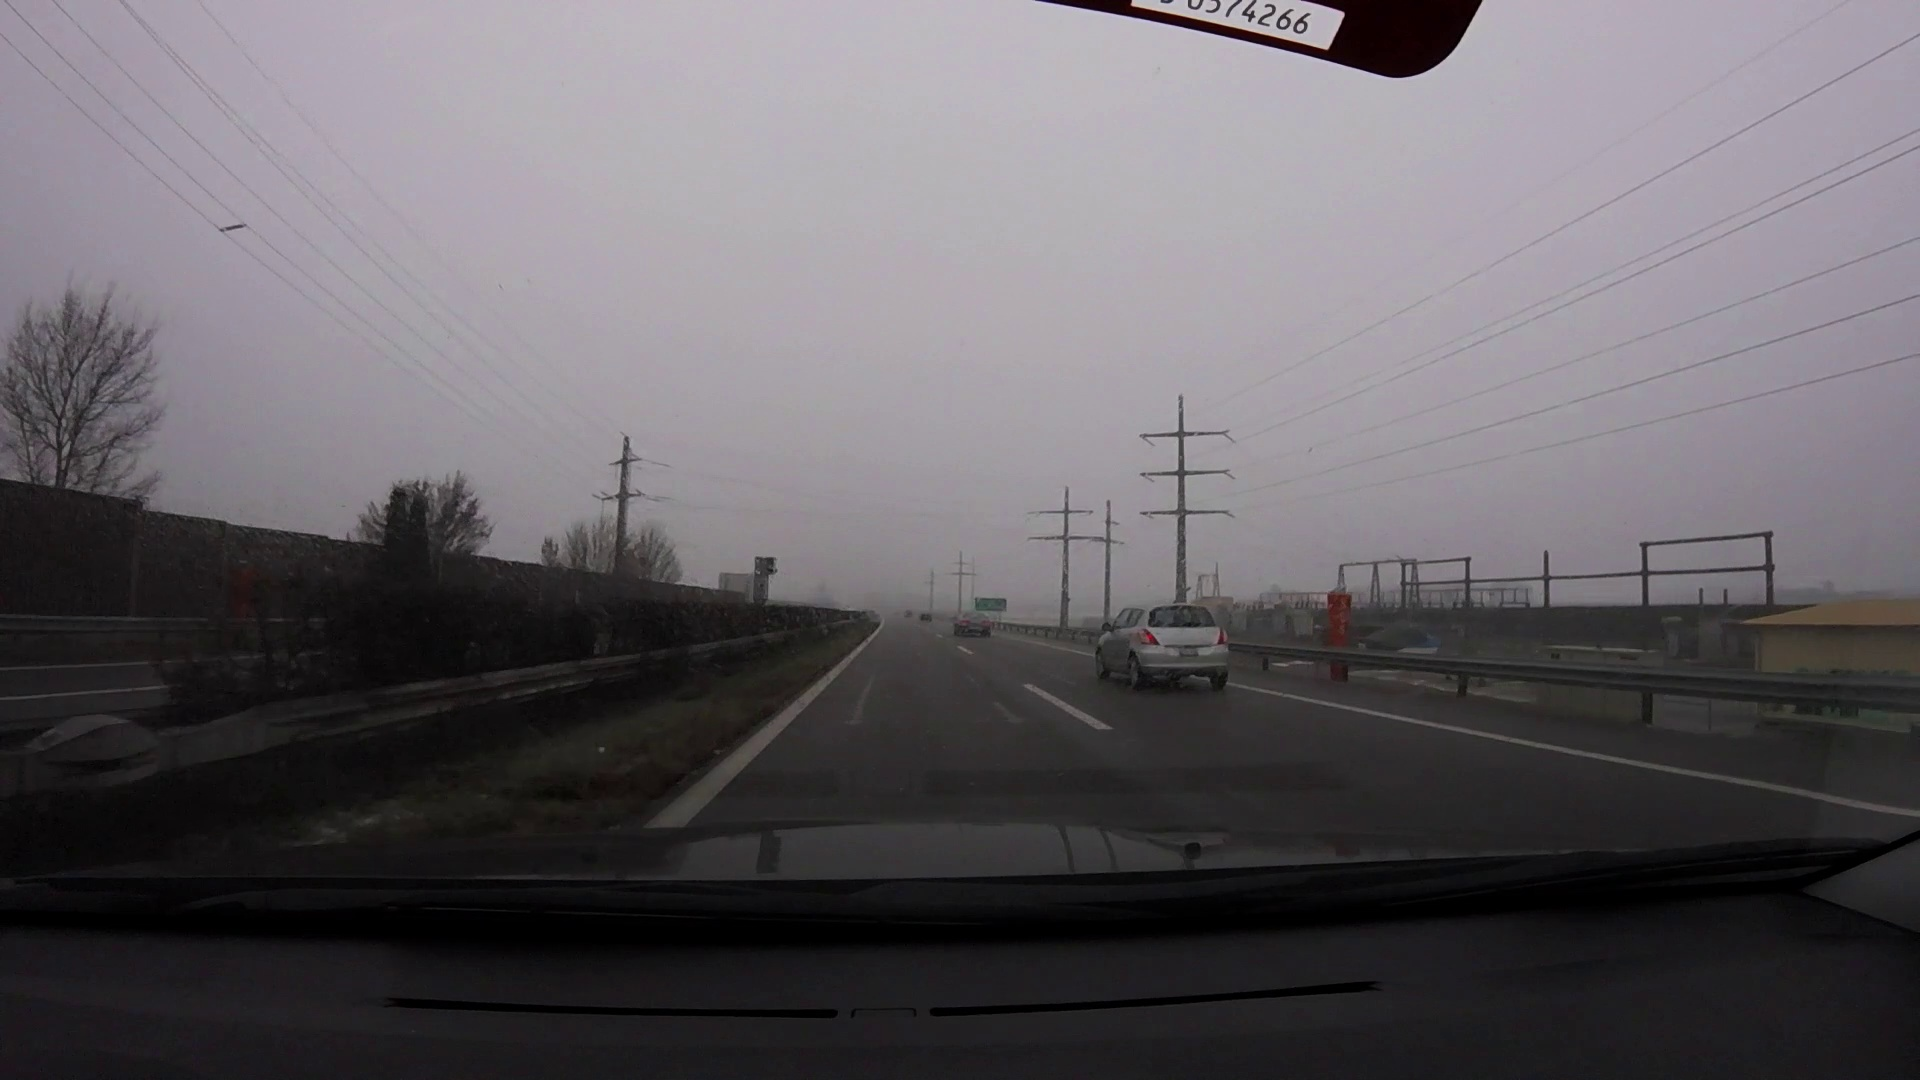radar: (752, 554, 781, 607)
